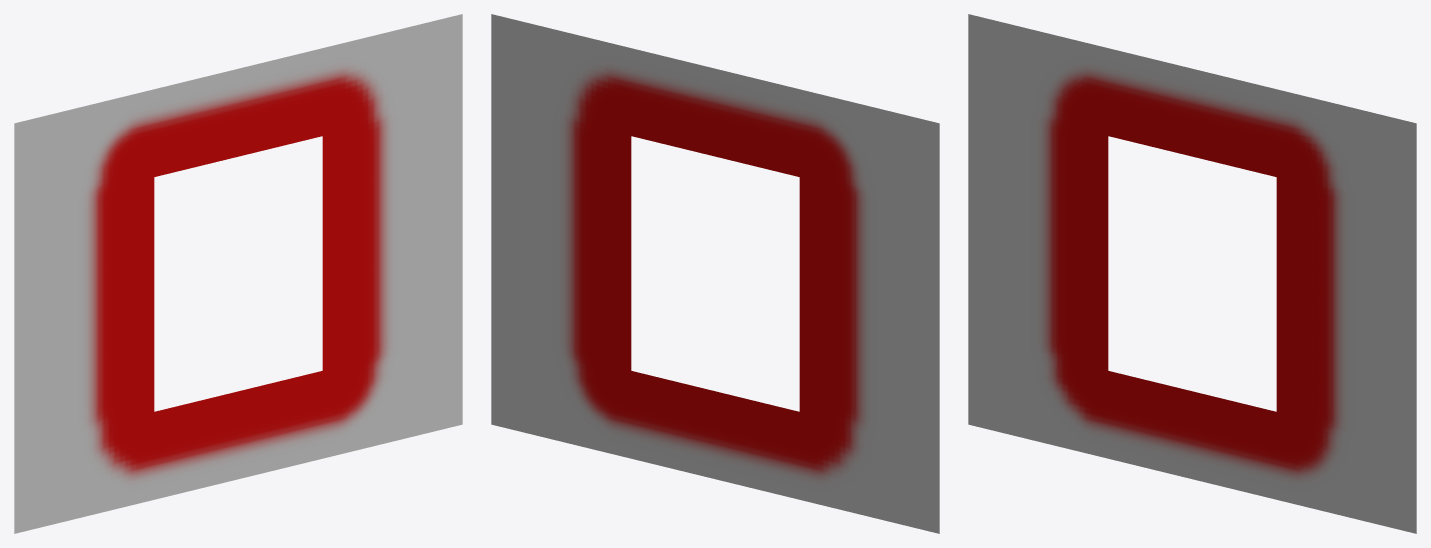
File: wall_window_400x350_04.fbx
The picture shows the model from 3 angles, left to right: view 1: azimuth 30°, elevation 25°; view 2: azimuth 150°, elevation 25°; view 3: azimuth 330°, elevation 25°; orthographic projection.
Parts seen in each view (by area): view 1: wall_window_400x350_04; view 2: wall_window_400x350_04; view 3: wall_window_400x350_04.
Boxes of the visible parts, bbox=[...] form: wall_window_400x350_04: bbox=[14, 14, 462, 533]; wall_window_400x350_04: bbox=[491, 14, 939, 533]; wall_window_400x350_04: bbox=[968, 14, 1416, 533].
Size of the model in its own units: 4 by 3.5 by 0.
